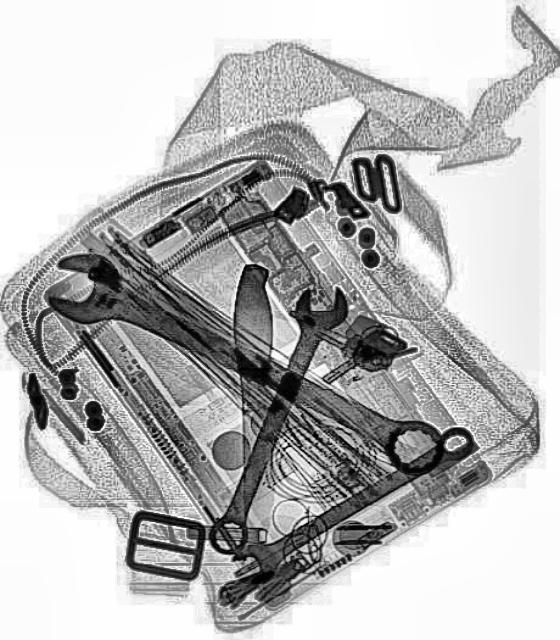Knife: (230, 264, 278, 548)
Wrench: (37, 238, 455, 486), (198, 274, 354, 564), (224, 417, 480, 593)
